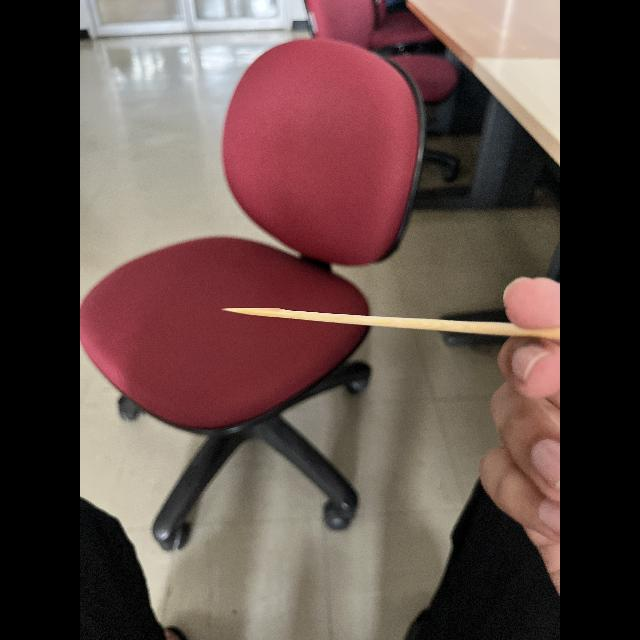stick: (216, 282, 560, 352)
